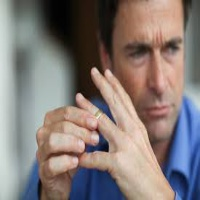ring: (73, 91, 121, 147), (33, 132, 90, 153)
